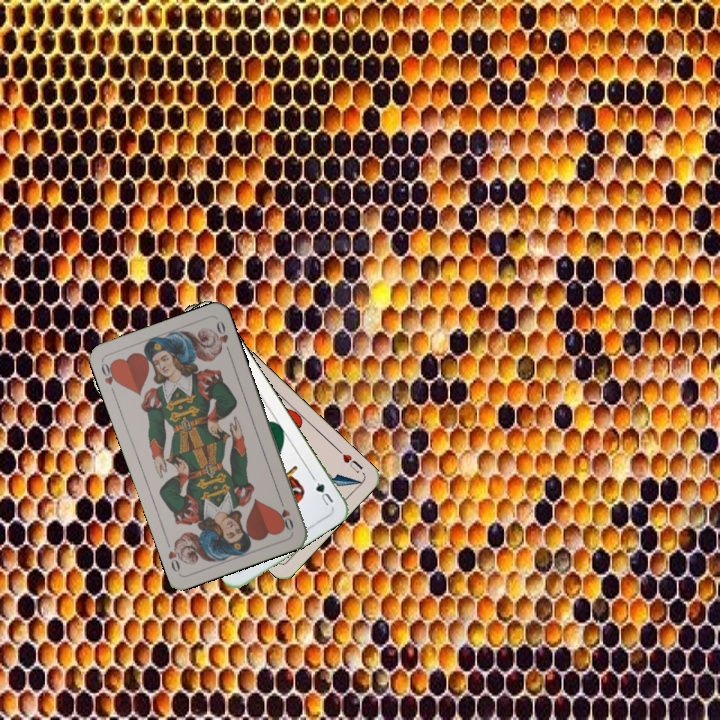GU: (312, 478, 336, 509)
HO: (97, 359, 122, 397), (275, 494, 296, 533)
HU: (333, 445, 366, 476)
